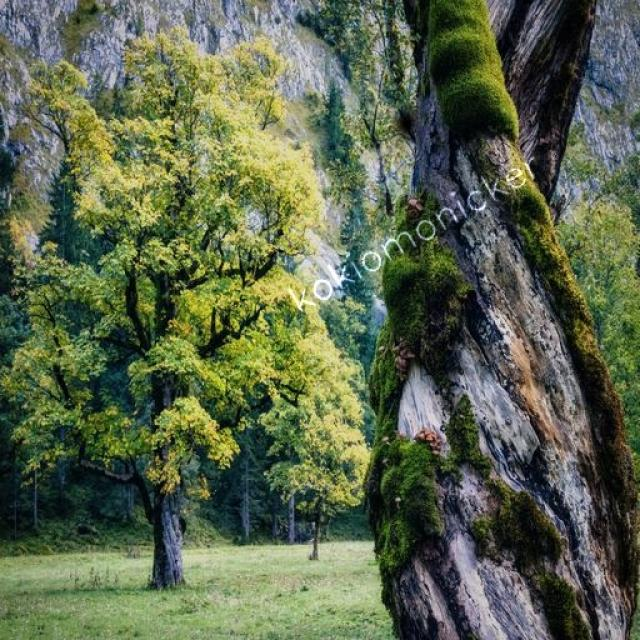watermark: (288, 142, 543, 321)
